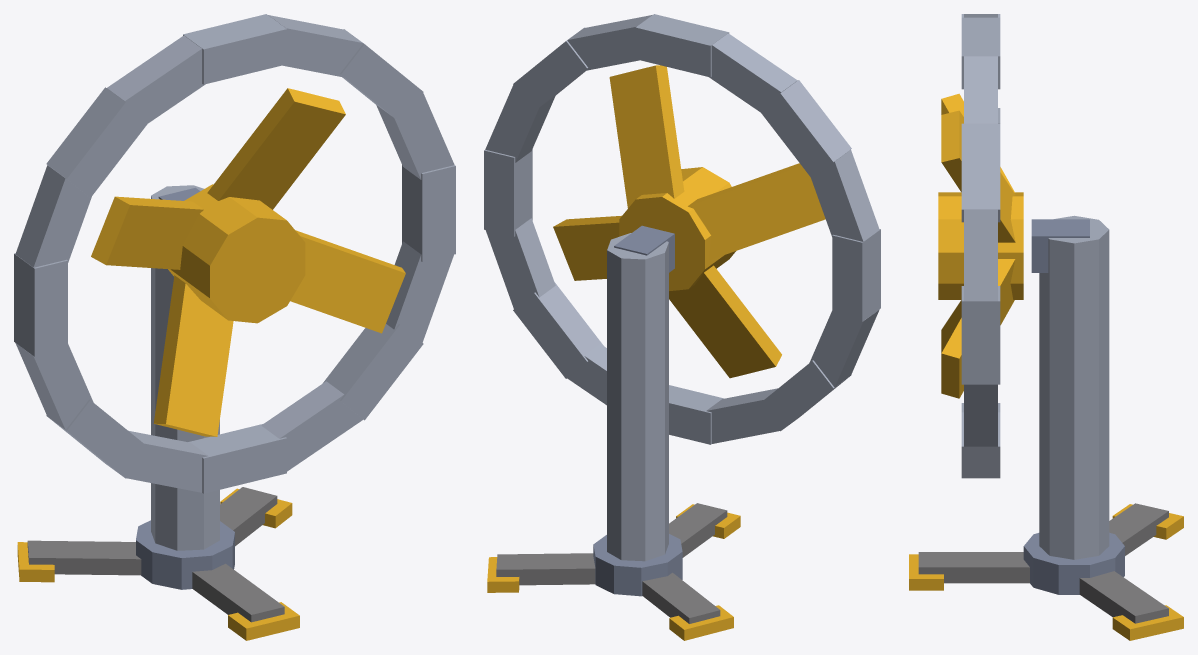
Rendered from fan.glb.
3 views of the same model, side by side, from view 1: azimuth 30°, elevation 25°; view 2: azimuth 150°, elevation 25°; view 3: azimuth 270°, elevation 25° (orthographic). The views are drawn at different scales.
Visible parts, largest first — view 1: fan; view 2: fan; view 3: fan.
Part boxes in pixels (x1,y1,x2,y2): fan: (14,14,455,640); fan: (484,14,880,640); fan: (909,14,1183,640).
Bounding box in the file's own units: 1.25 × 1.63 × 0.75.
